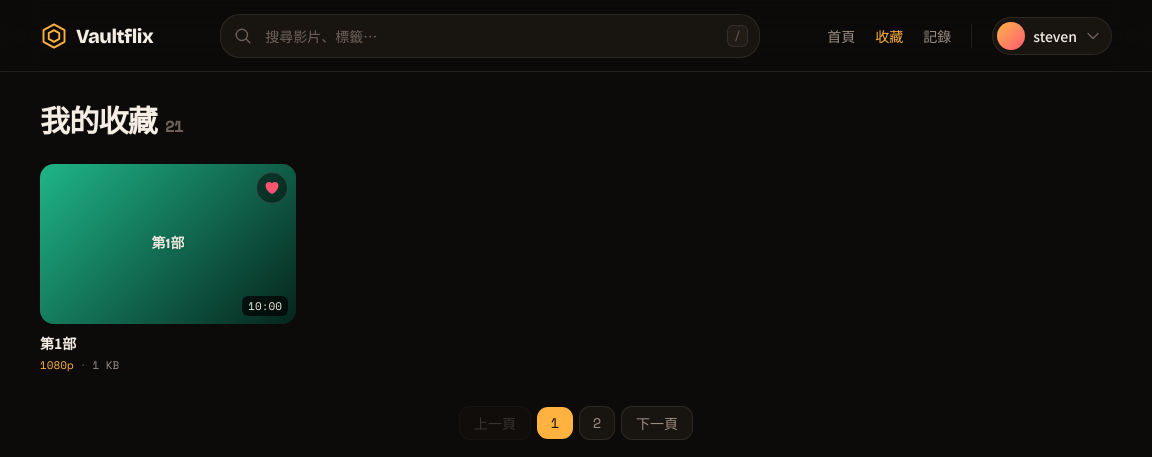
Test: FavoritesPage › moves to the new last page when removing its only favorite
expect the heading "第1部" is shown: met, box x1=40 y1=333 x2=76 y2=353
Click the button "2".
click(597, 423)  # box x1=579 y1=406 x2=615 y2=440
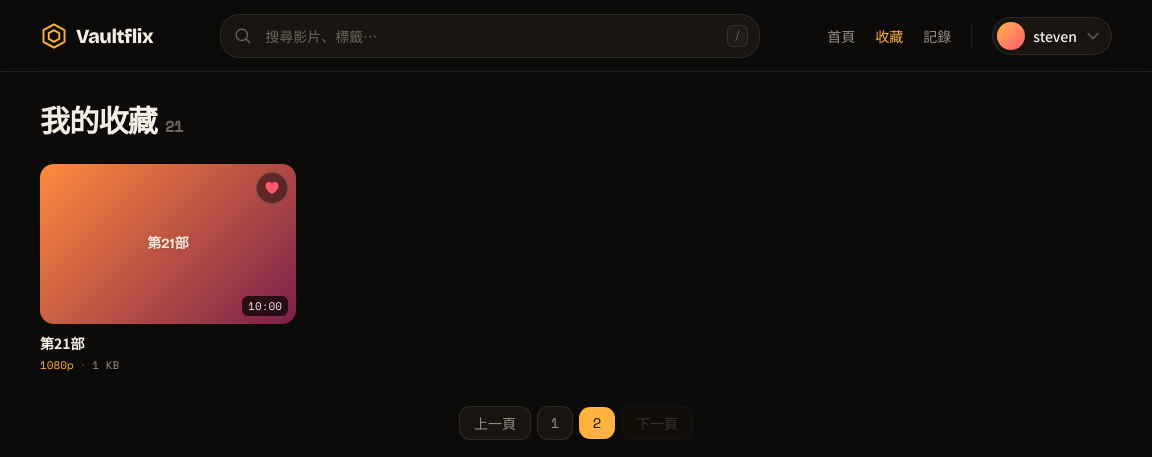
expect the heading "第21部" is shown: met, box x1=40 y1=333 x2=84 y2=353
Click the button titled "取消收藏".
click(272, 188)  # box x1=256 y1=172 x2=288 y2=204
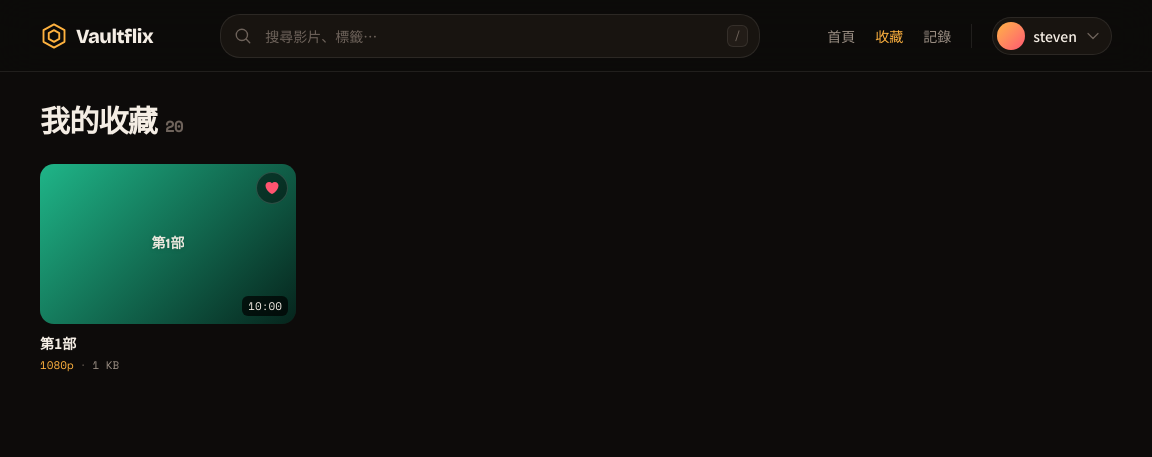
expect the heading "第1部" is shown: met, box x1=40 y1=333 x2=76 y2=353
